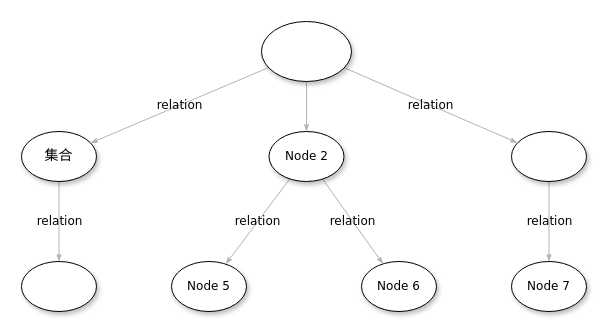
Image size: 610x336. Some labels were removed from this diagram. The centre of each missing label's shape, as x and y in pixels:
Node 3: (x=549, y=157)
Node 4: (x=59, y=287)
数学: (x=307, y=52)
